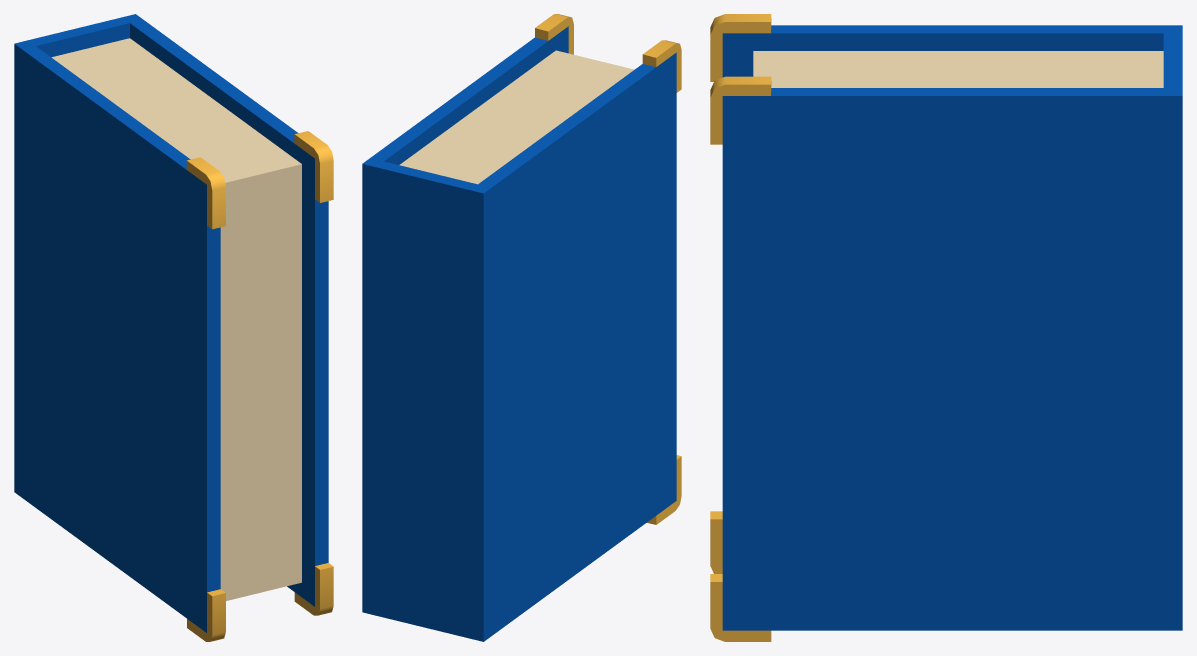
The model's file is Book_1.fbx.
3 renders of one model, left to right at view 1: azimuth 30°, elevation 25°; view 2: azimuth 150°, elevation 25°; view 3: azimuth 270°, elevation 25°, orthographic. The views are drawn at different scales.
Parts seen in each view (by area): view 1: Book_1; view 2: Book_1; view 3: Book_1.
Part boxes in pixels (<box>): Book_1: <box>14,14,333,641</box>; Book_1: <box>362,14,681,641</box>; Book_1: <box>710,14,1182,641</box>.
Bounding box in the file's own units: 0.0712 × 0.2617 × 0.201.
